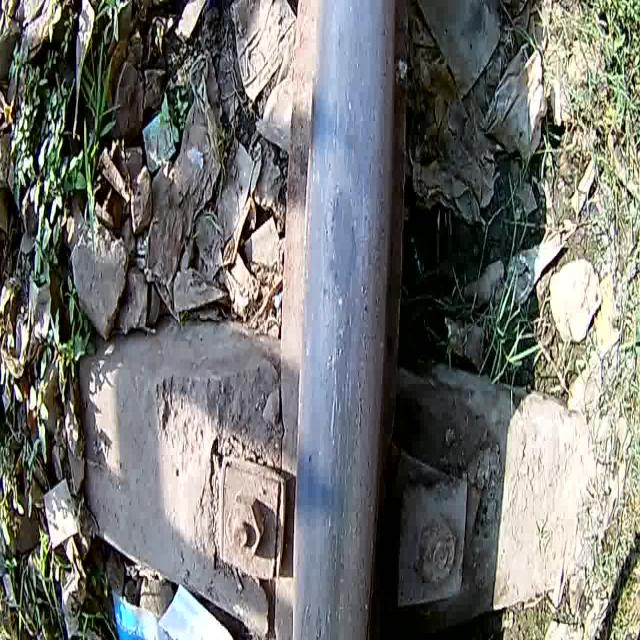Squats: (290, 164, 408, 327)
